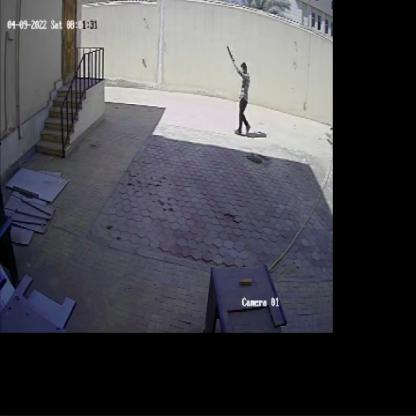handgun: (224, 40, 238, 74)
